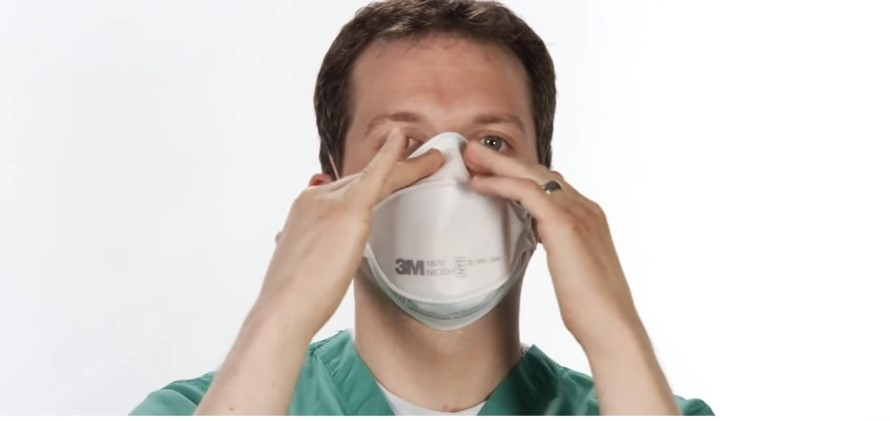face_with_mask: (304, 2, 567, 338)
